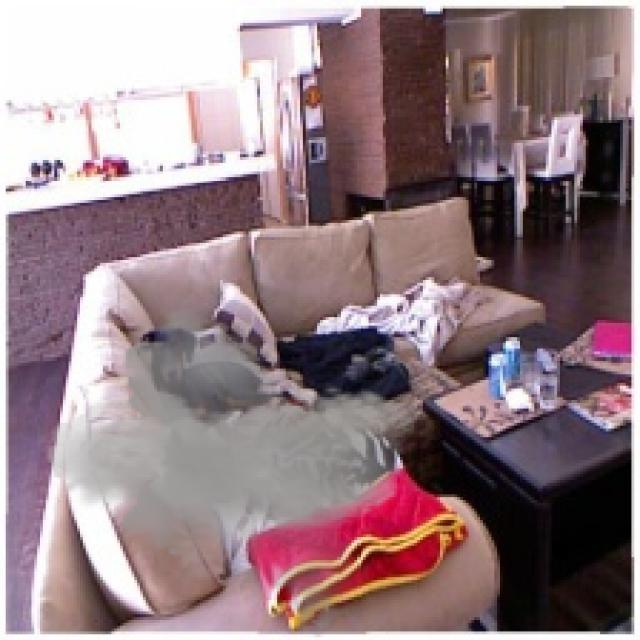smoke: (46, 297, 420, 637)
